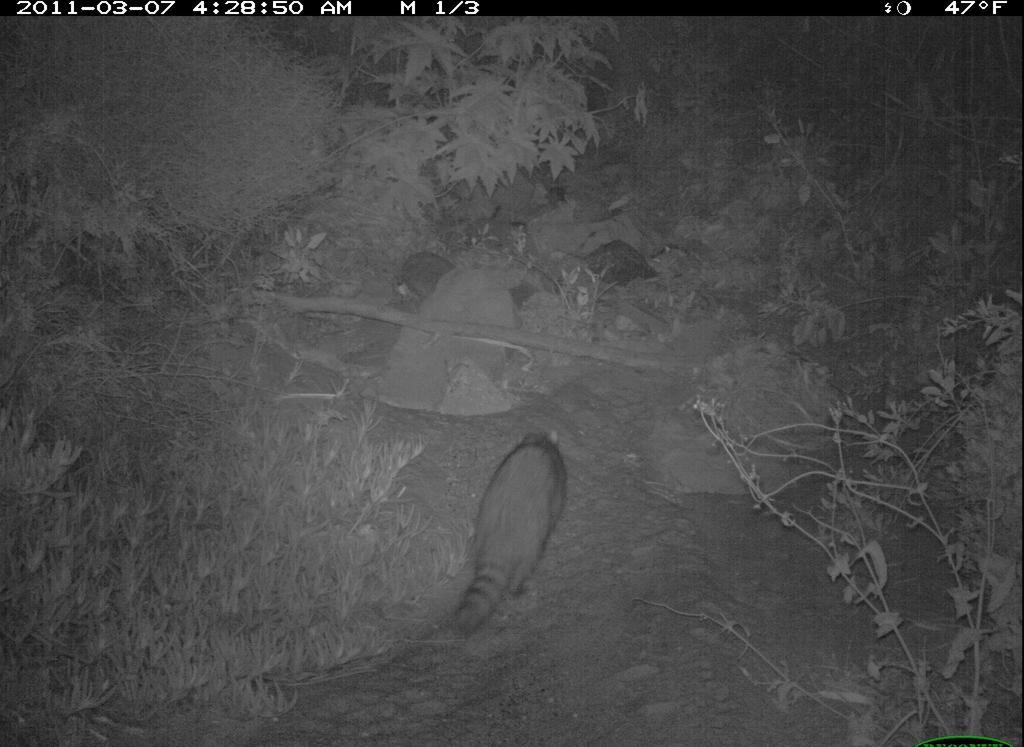raccoon: (429, 410, 592, 664)
